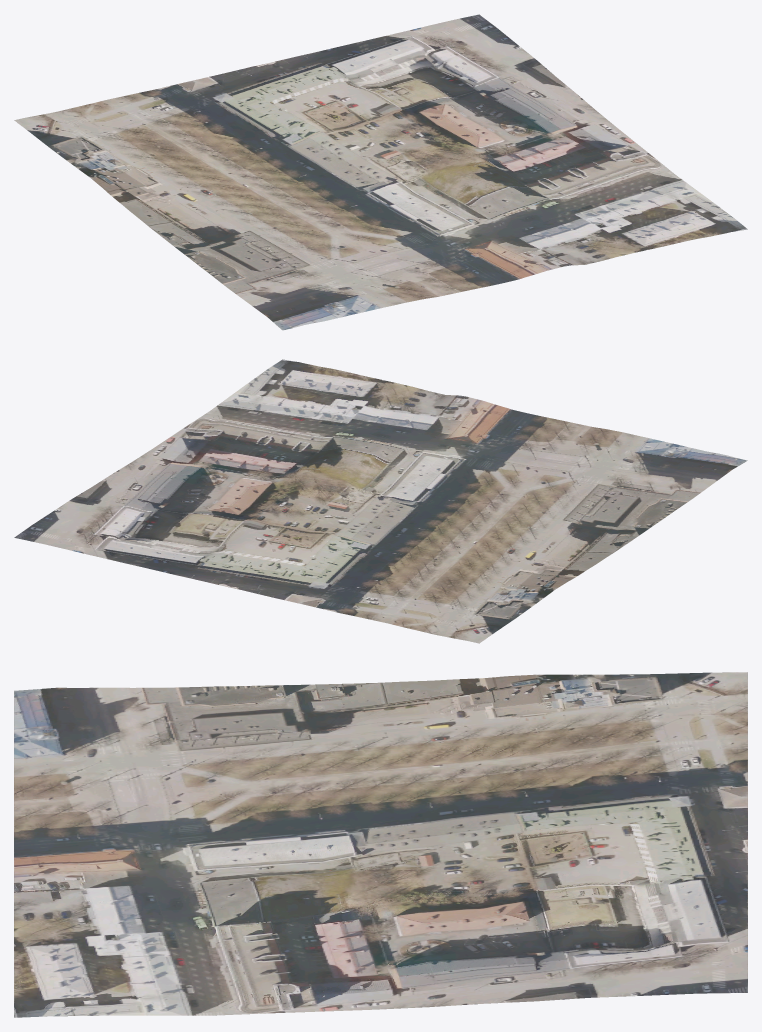
The model's file is CM_Terrain_24486773_6820613.fbx.
The picture shows the model from 3 angles, top to bottom: view 1: azimuth 30°, elevation 25°; view 2: azimuth 150°, elevation 25°; view 3: azimuth 270°, elevation 25°; orthographic projection. The views are drawn at different scales.
Parts seen in each view (by area): view 1: CM_Terrain_24486773_6820613_LOD0; view 2: CM_Terrain_24486773_6820613_LOD0; view 3: CM_Terrain_24486773_6820613_LOD0.
Boxes of the visible parts, left/top/right/bottom form: CM_Terrain_24486773_6820613_LOD0: left=14, top=14, right=747, bottom=330; CM_Terrain_24486773_6820613_LOD0: left=14, top=359, right=747, bottom=643; CM_Terrain_24486773_6820613_LOD0: left=14, top=672, right=747, bottom=1017.
Size of what is drawn, in the model's own units: 205 by 10.94 by 205.
